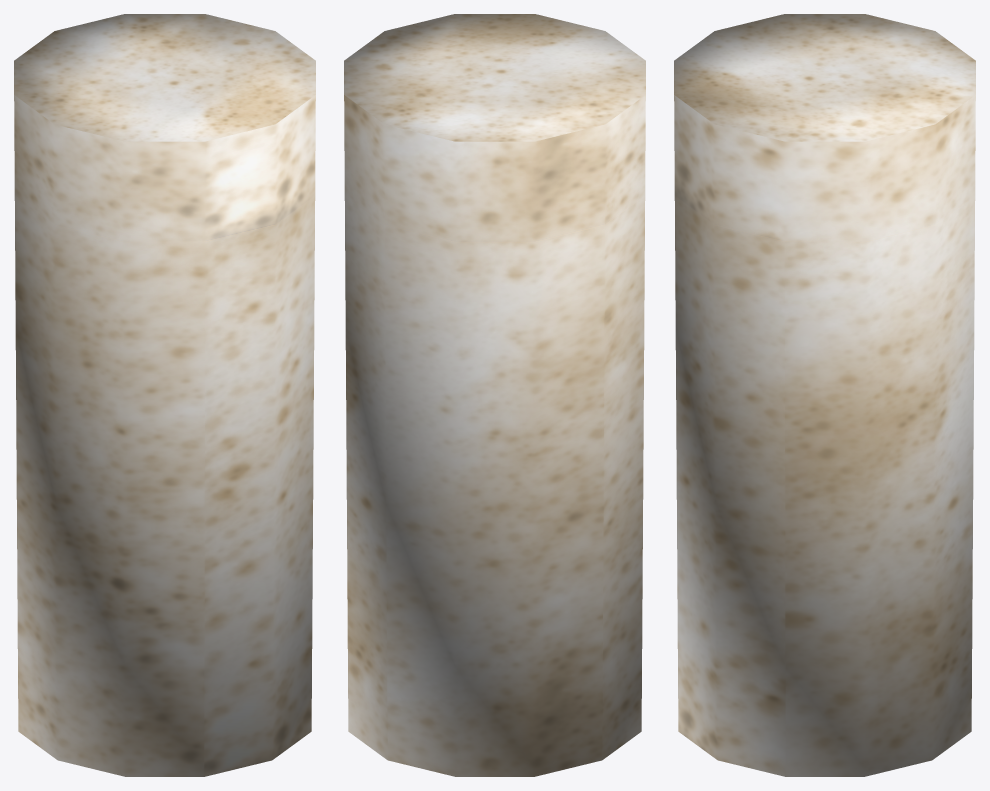
The model's file is relleno_batido_solo.glb.
The picture shows the model from 3 angles, left to right: view 1: azimuth 30°, elevation 25°; view 2: azimuth 150°, elevation 25°; view 3: azimuth 270°, elevation 25°; orthographic projection.
Parts seen in each view (by area): view 1: relleno_licuado; view 2: relleno_licuado; view 3: relleno_licuado.
Boxes of the visible parts, bbox=[...] form: relleno_licuado: bbox=[14, 14, 315, 776]; relleno_licuado: bbox=[344, 14, 645, 776]; relleno_licuado: bbox=[674, 14, 975, 776].
Bounding box in the file's own units: 0.9505 × 2.24 × 0.9505.
1 material, 1 textured.
